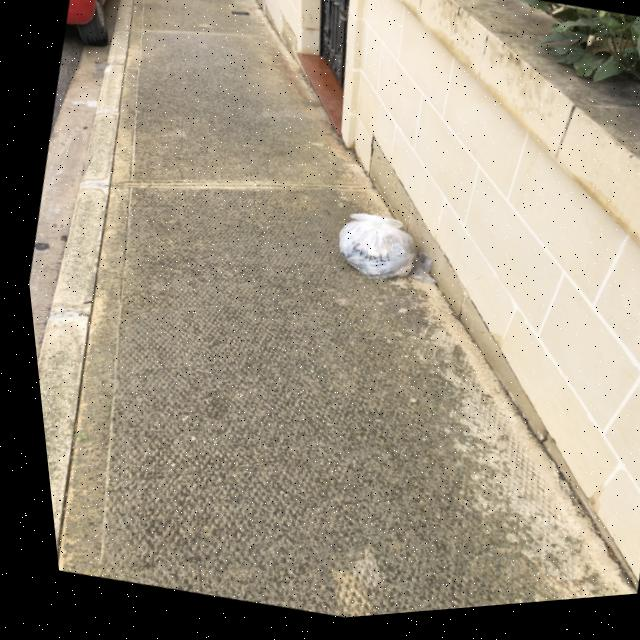Organic Waste -White Bag-: (322, 211, 420, 298)
